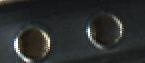joints: (83, 9, 124, 49), (13, 22, 53, 62)
